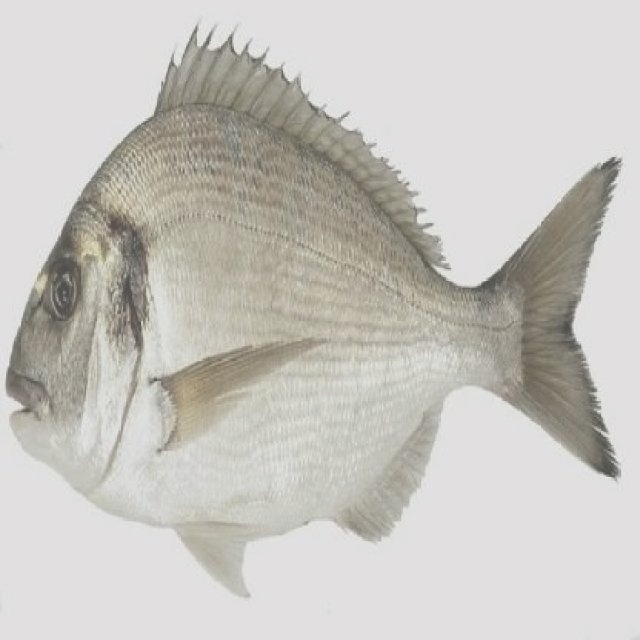Healthy Fish: (1, 18, 640, 602)
